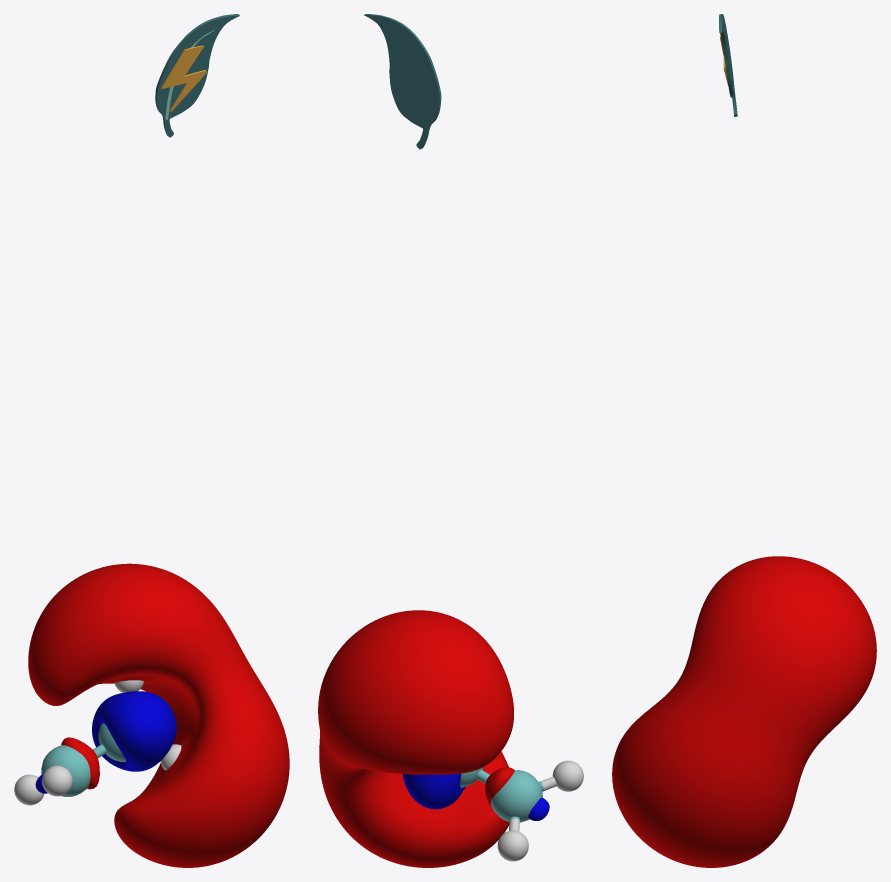
The model's file is c2h4_sim_ae.glb.
The picture shows the model from 3 angles, left to right: view 1: azimuth 30°, elevation 25°; view 2: azimuth 150°, elevation 25°; view 3: azimuth 270°, elevation 25°; orthographic projection. The views are drawn at different scales.
Parts seen in each view (by area): view 1: c2h4_sim_ae, path182, path186; view 2: c2h4_sim_ae, path182; view 3: c2h4_sim_ae, path182.
Boxes of the visible parts, left/top/right/bottom form: c2h4_sim_ae: left=14, top=563, right=289, bottom=867; path182: left=155, top=14, right=239, bottom=137; path186: left=161, top=45, right=206, bottom=112; c2h4_sim_ae: left=318, top=610, right=583, bottom=867; path182: left=364, top=14, right=441, bottom=149; c2h4_sim_ae: left=612, top=556, right=876, bottom=867; path182: left=719, top=14, right=737, bottom=116.
Bounding box in the file's own units: 1.79 × 5.94 × 1.67.
